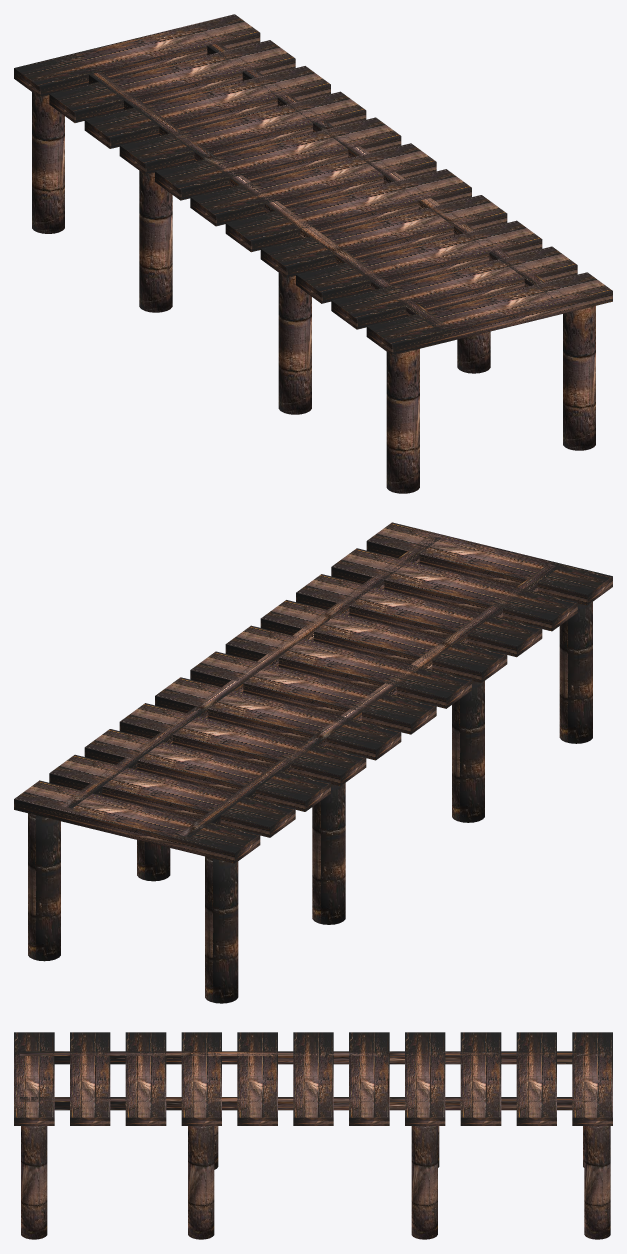
The model's file is bridge.dae.
3 renders of one model, top to bottom at view 1: azimuth 30°, elevation 25°; view 2: azimuth 150°, elevation 25°; view 3: azimuth 270°, elevation 25°, orthographic. The views are drawn at different scales.
Visible parts, largest first — view 1: Box010_001, Box011_001, Box002_002, Box001_002, Box009_001, Box003_002, Box006_001, Box008_001, Box005_001, Box004_002, Box007_001, Cylinder001_002 (+7 smaller); view 2: Box011_001, Box009_001, Box006_001, Box003_002, Box001_002, Box010_001, Box005_001, Box007_001, Box008_001, Box002_002, Box004_002, Cylinder003_002 (+7 smaller); view 3: Box004_002, Box008_001, Box013_001, Box003_002, Box001_002, Box002_002, Box011_001, Box005_001, Box009_001, Box007_001, Box006_001, Box010_001 (+5 smaller).
Part boxes in pixels (box(x1,y1,x2,y2)): Box010_001: box(366, 272, 612, 355); Box011_001: box(14, 14, 260, 97); Box002_002: box(155, 117, 401, 200); Box001_002: box(190, 143, 436, 226); Box009_001: box(331, 246, 577, 329); Box003_002: box(119, 91, 366, 174); Box006_001: box(225, 169, 471, 252); Box008_001: box(296, 220, 542, 303); Box005_001: box(49, 40, 295, 122); Box004_002: box(84, 66, 330, 148); Box007_001: box(260, 195, 507, 277); Cylinder001_002: box(386, 349, 419, 493); Box011_001: box(14, 780, 260, 863); Box009_001: box(331, 548, 577, 631); Box006_001: box(225, 625, 471, 708); Box003_002: box(119, 703, 366, 786); Box001_002: box(190, 651, 436, 734); Box010_001: box(366, 522, 612, 605); Box005_001: box(49, 754, 295, 837); Box007_001: box(260, 600, 507, 682); Box008_001: box(296, 574, 542, 657); Box002_002: box(155, 677, 401, 760); Box004_002: box(84, 729, 330, 811); Cylinder003_002: box(205, 856, 238, 1003); Box004_002: box(460, 1032, 501, 1125); Box008_001: box(125, 1032, 166, 1125); Box013_001: box(19, 1051, 605, 1064); Box003_002: box(405, 1032, 445, 1125); Box001_002: box(293, 1032, 333, 1125); Box002_002: box(349, 1032, 389, 1125); Box011_001: box(572, 1032, 612, 1125); Box005_001: box(516, 1032, 556, 1125); Box009_001: box(70, 1032, 110, 1125); Box007_001: box(181, 1032, 221, 1125); Box006_001: box(237, 1032, 277, 1125); Box010_001: box(14, 1032, 54, 1125).
Size of the model in its own units: 36.17 by 107 by 24.57.
